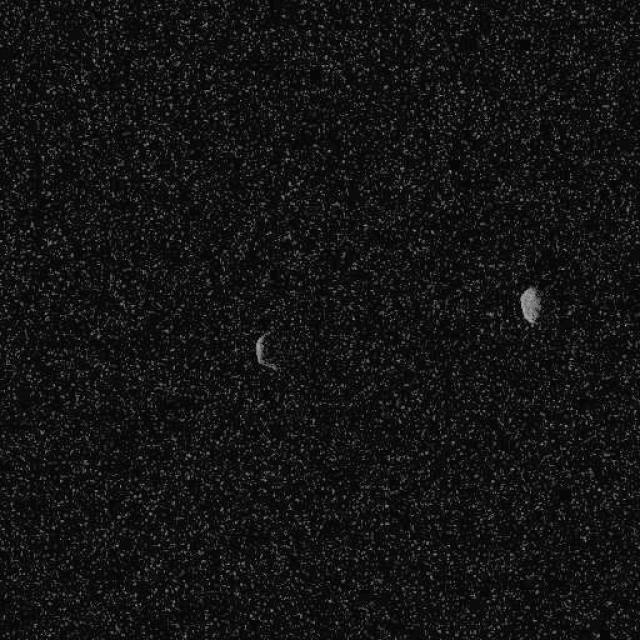D2: (518, 285, 542, 325), (254, 330, 278, 370)
